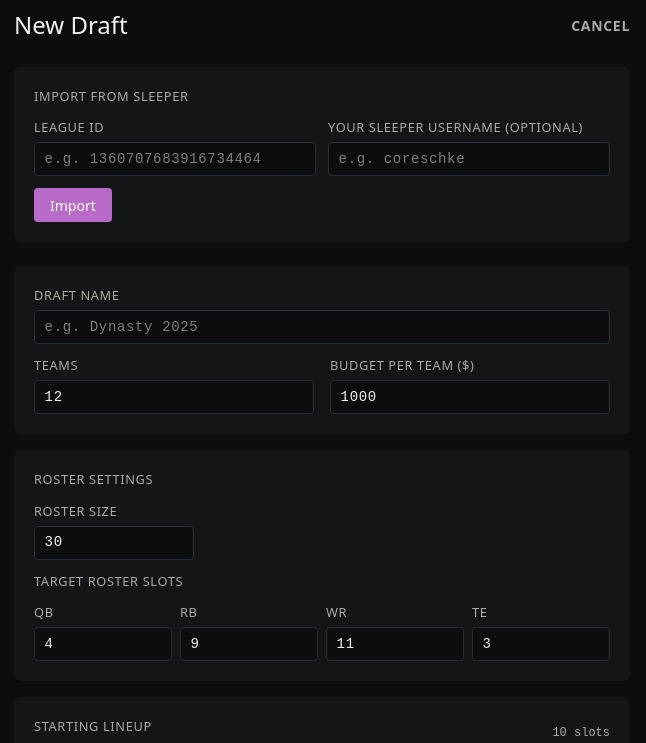
Test: NewDraftPage — Sleeper import banner › shows username warning when ownerIndex is null and username was entered
Type "1360707683916734464" into the field with test id "sleeper-league-id" at (175, 159), box [34,142,316,176]
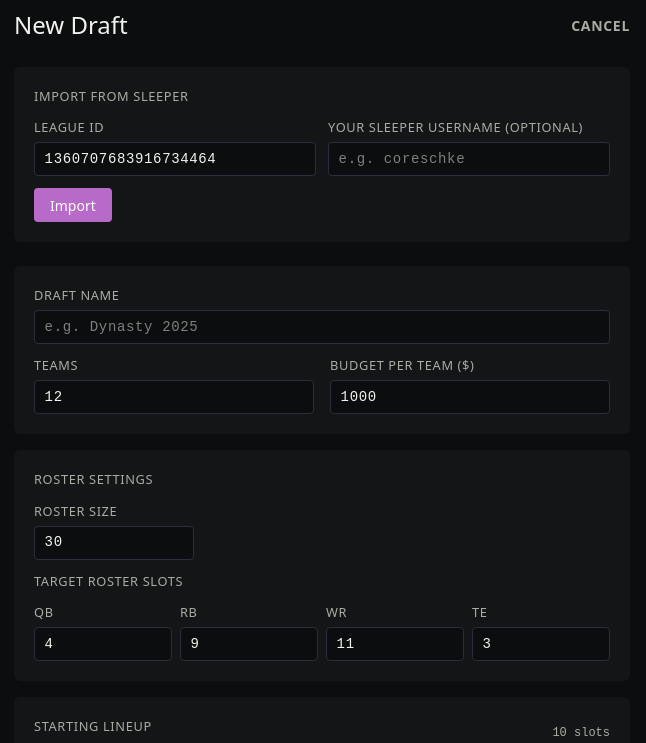
Type "coreschke" into the field with test id "sleeper-owner-username" at (469, 159), box [328,142,610,176]
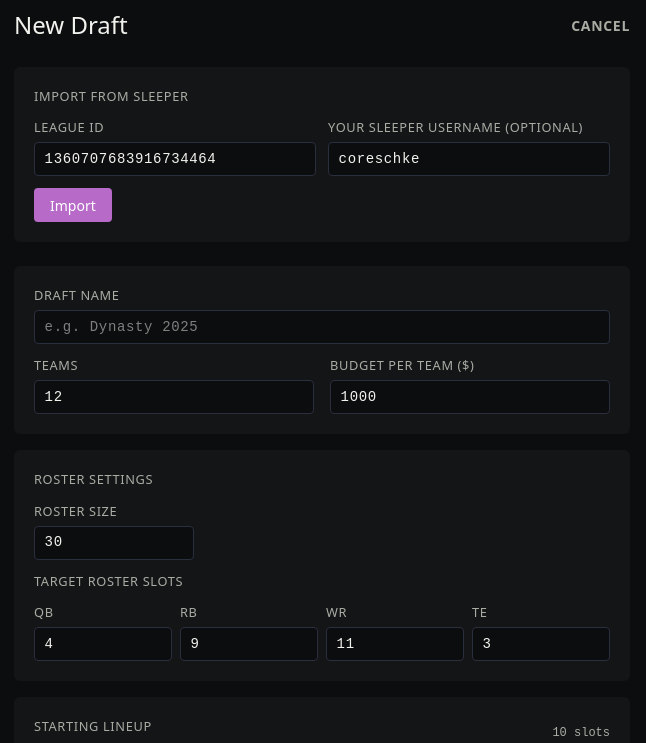
Click the button with test id "sleeper-import-button" at (73, 205), box [34,188,112,222]
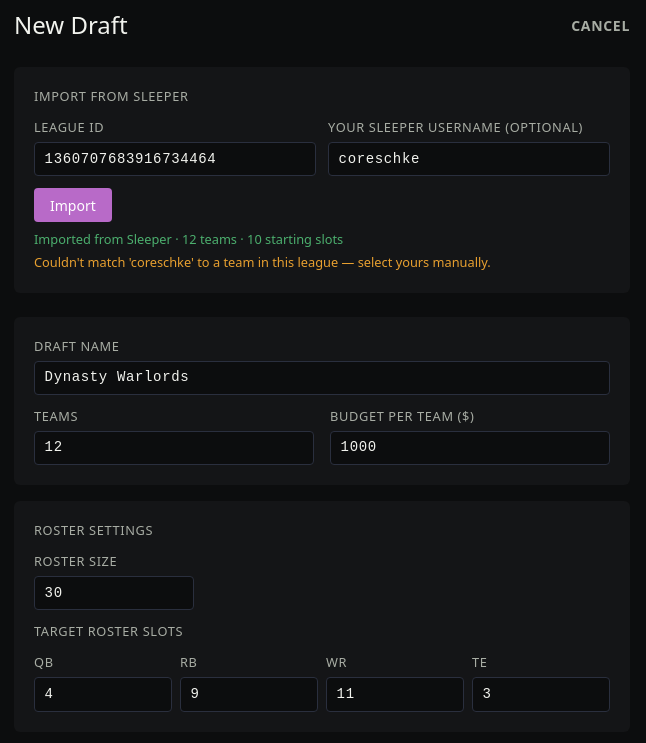
Expected: the text with test id "sleeper-import-warning" is shown, [34,253,491,271]
